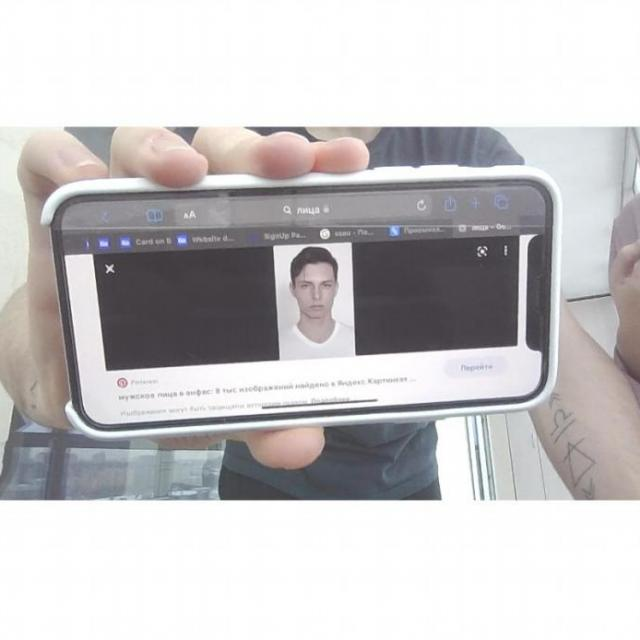device: (33, 158, 569, 442)
